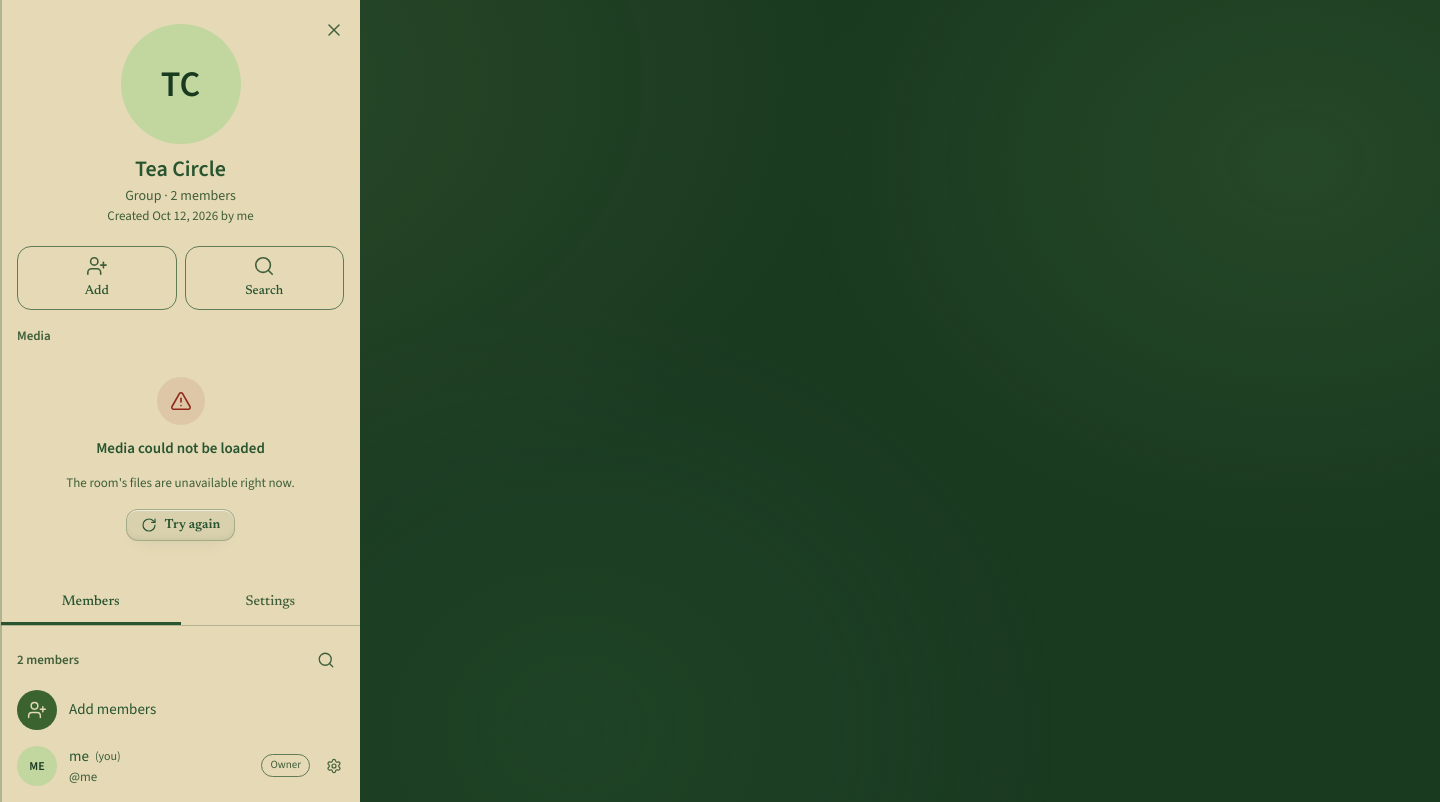
Test: GroupInfoPanel › disables a connection who is already a member
The image size is (1440, 802).
Click the button "Add" at (97, 278), box [17,246,176,310]
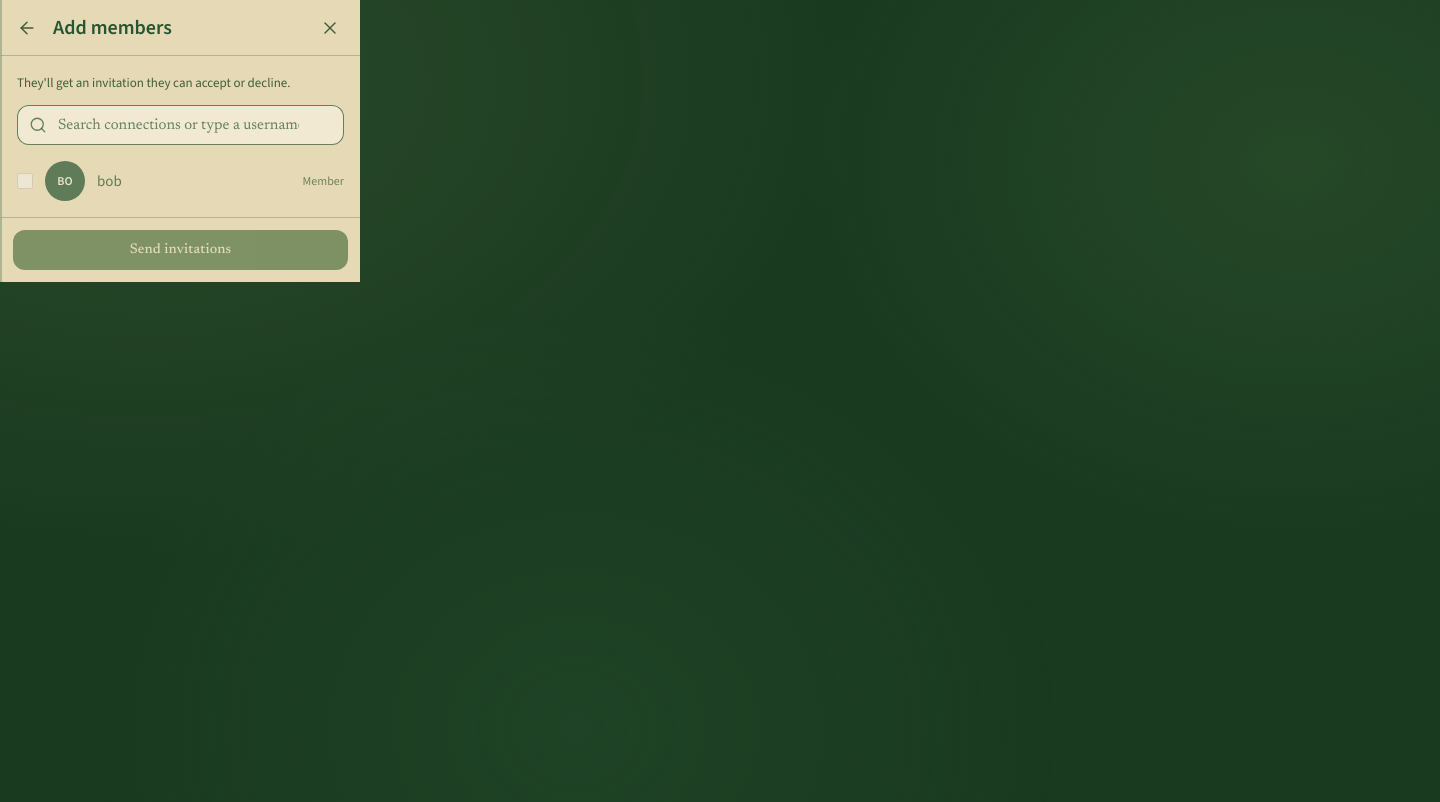
Expected: the text "Member" is shown, [303,172,344,190]
Expected: the checkbox labelled "bob" is disabled, [17,173,33,189]
